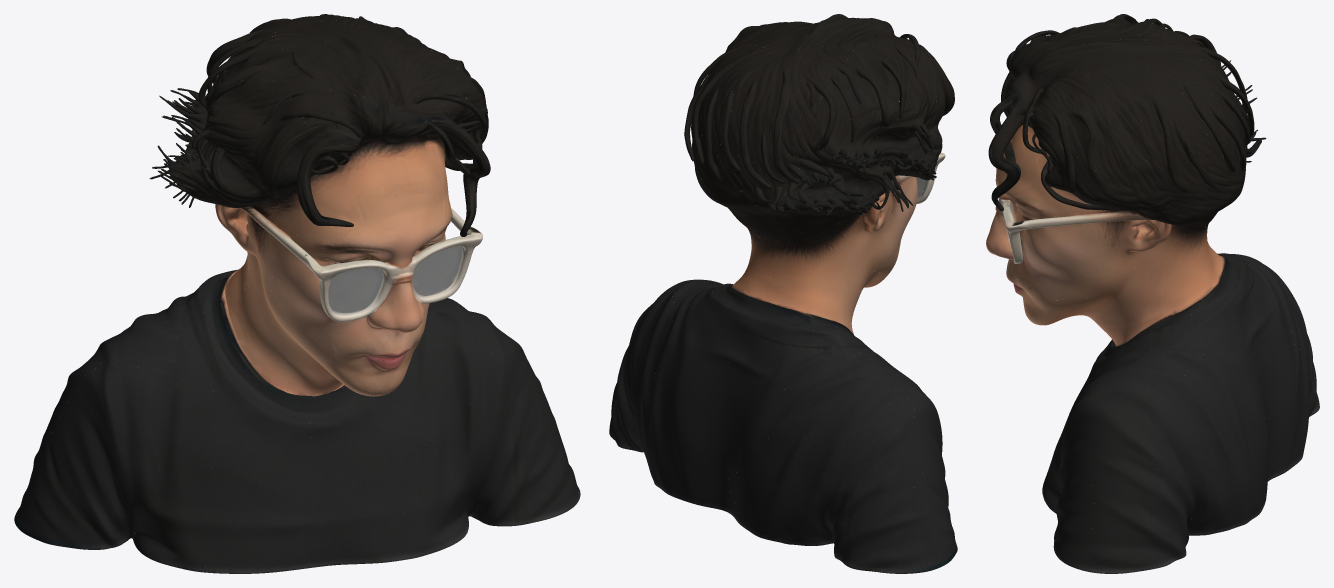
The model's file is ernest_tripo_face.glb.
3 renders of one model, left to right at view 1: azimuth 30°, elevation 25°; view 2: azimuth 150°, elevation 25°; view 3: azimuth 270°, elevation 25°, orthographic. The views are drawn at different scales.
Parts seen in each view (by area): view 1: Ernest_Face; view 2: Ernest_Face; view 3: Ernest_Face.
Part boxes in pixels (left/top/right/bottom): Ernest_Face: left=14, top=14, right=580, bottom=573; Ernest_Face: left=609, top=14, right=957, bottom=573; Ernest_Face: left=986, top=14, right=1319, bottom=573.
Bounding box in the file's own units: 0.9531 × 0.9793 × 0.6786.
Materials: 1 (1 with a texture image).
